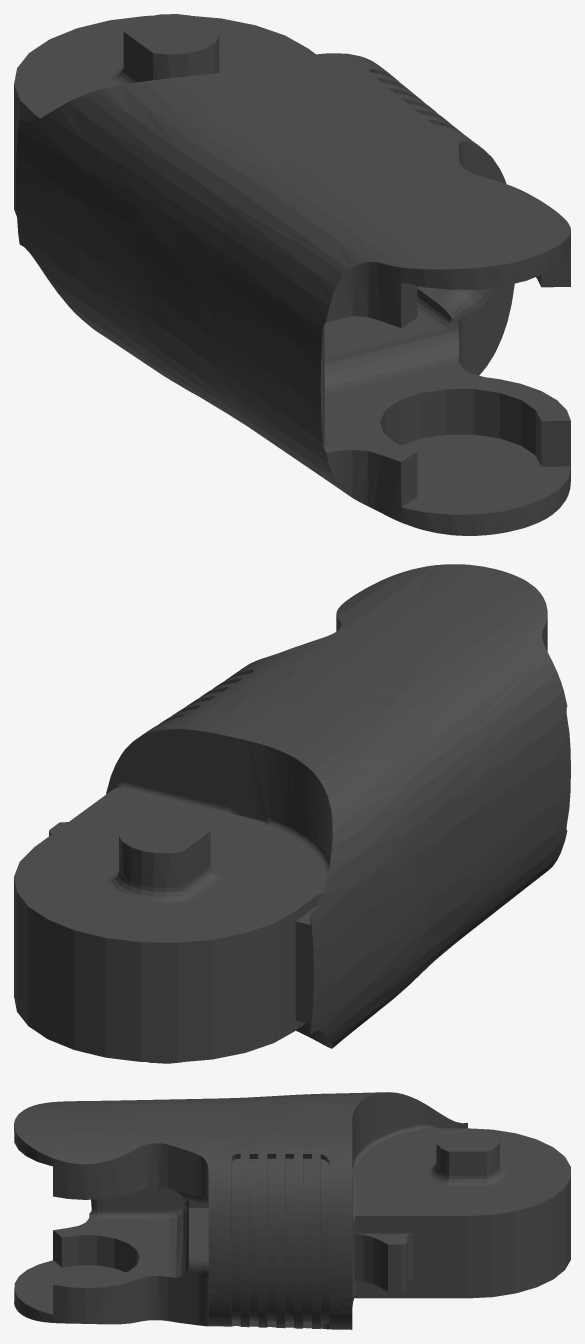
File: rh_middle_proximal_vis.obj
3 renders of one model, top to bottom at view 1: azimuth 30°, elevation 25°; view 2: azimuth 150°, elevation 25°; view 3: azimuth 270°, elevation 25°, orthographic. The views are drawn at different scales.
Visible parts, largest first — view 1: rh_middle_proximal; view 2: rh_middle_proximal; view 3: rh_middle_proximal.
Boxes of the visible parts, box(x1,y1,x2,y2) form: rh_middle_proximal: box(14, 14, 570, 535); rh_middle_proximal: box(14, 564, 570, 1063); rh_middle_proximal: box(14, 1092, 570, 1329).
Size of the model in its own units: 0.0191 by 0.016 by 0.0429.
Materials: 1 (1 with a texture image).
